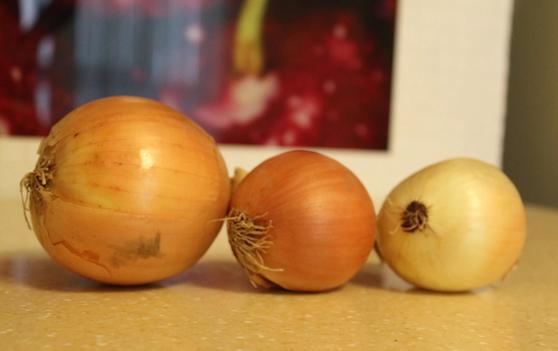onion: (30, 96, 229, 284), (230, 150, 378, 295)
